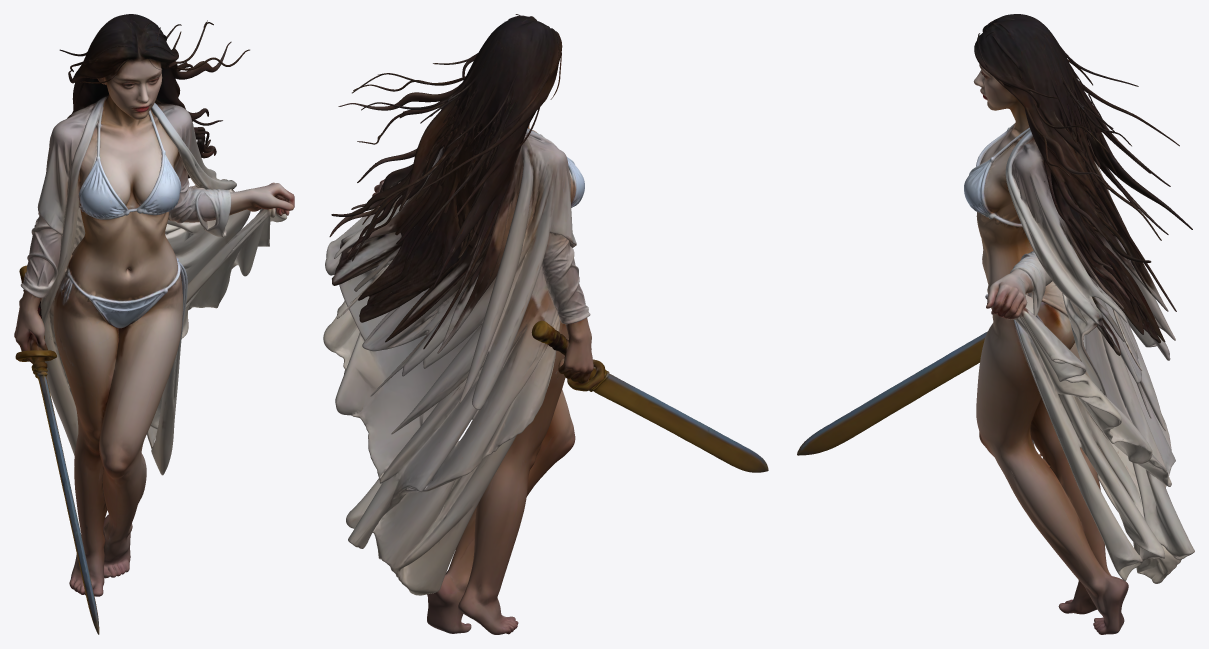
File: zzrjc.glb
3 views of the same model, side by side, from view 1: azimuth 30°, elevation 25°; view 2: azimuth 150°, elevation 25°; view 3: azimuth 270°, elevation 25° (orthographic). The views are drawn at different scales.
Visible parts, largest first — view 1: node_0; view 2: node_0; view 3: node_0.
Part boxes in pixels (x1,y1,x2,y2): node_0: (14,14,294,634); node_0: (323,14,768,634); node_0: (797,14,1194,634).
Size of the model in its own units: 0.6223 by 1.11 by 0.6713.
Materials: 1 (1 with a texture image).
